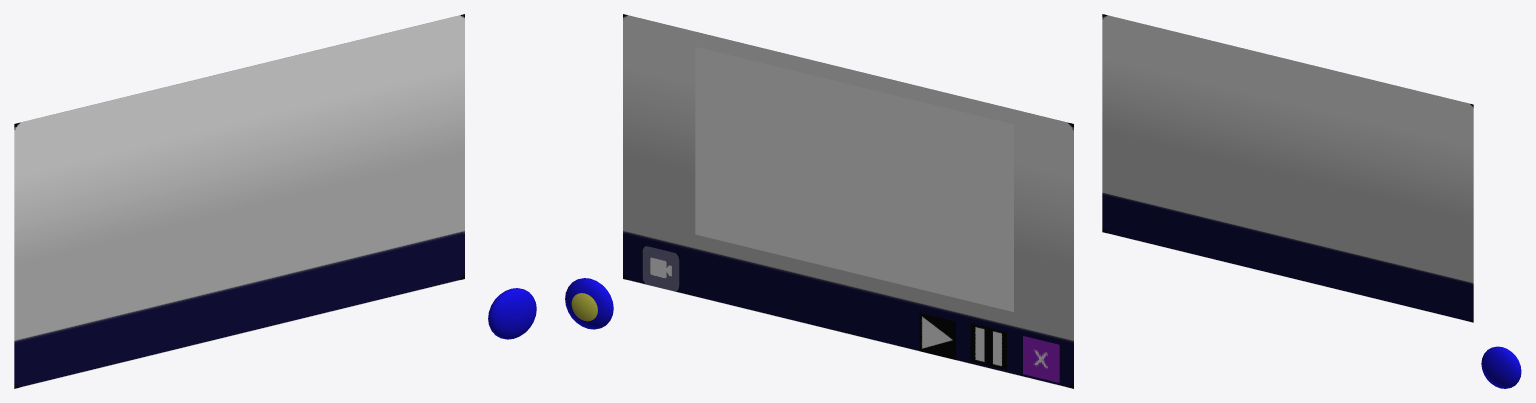
Rendered from Hotspot.gltf.
3 views of the same model, side by side, from view 1: azimuth 30°, elevation 25°; view 2: azimuth 150°, elevation 25°; view 3: azimuth 330°, elevation 25° (orthographic). The views are drawn at different scales.
Parts seen in each view (by area): view 1: Canvas, Hotspot VR-V360-I360_3D; view 2: VideoHolder, Canvas, Hotspot VR-V360-I360_3D, BotonVideo3D, Pause, Close, Play; view 3: Canvas, Hotspot VR-V360-I360_3D.
Boxes of the visible parts, bbox=[...] form: Canvas: bbox=[14, 14, 464, 388]; Hotspot VR-V360-I360_3D: bbox=[488, 288, 536, 339]; VideoHolder: bbox=[695, 47, 1013, 311]; Canvas: bbox=[623, 14, 1073, 388]; Hotspot VR-V360-I360_3D: bbox=[565, 278, 613, 329]; BotonVideo3D: bbox=[642, 245, 679, 291]; Pause: bbox=[970, 323, 1006, 369]; Close: bbox=[1023, 336, 1059, 382]; Play: bbox=[919, 313, 955, 359]; Canvas: bbox=[1102, 14, 1473, 322]; Hotspot VR-V360-I360_3D: bbox=[1481, 346, 1521, 388].
Size of the model in its own units: 0.4428 by 0.2707 by 0.0258.
Materials: 8 (5 with a texture image).
